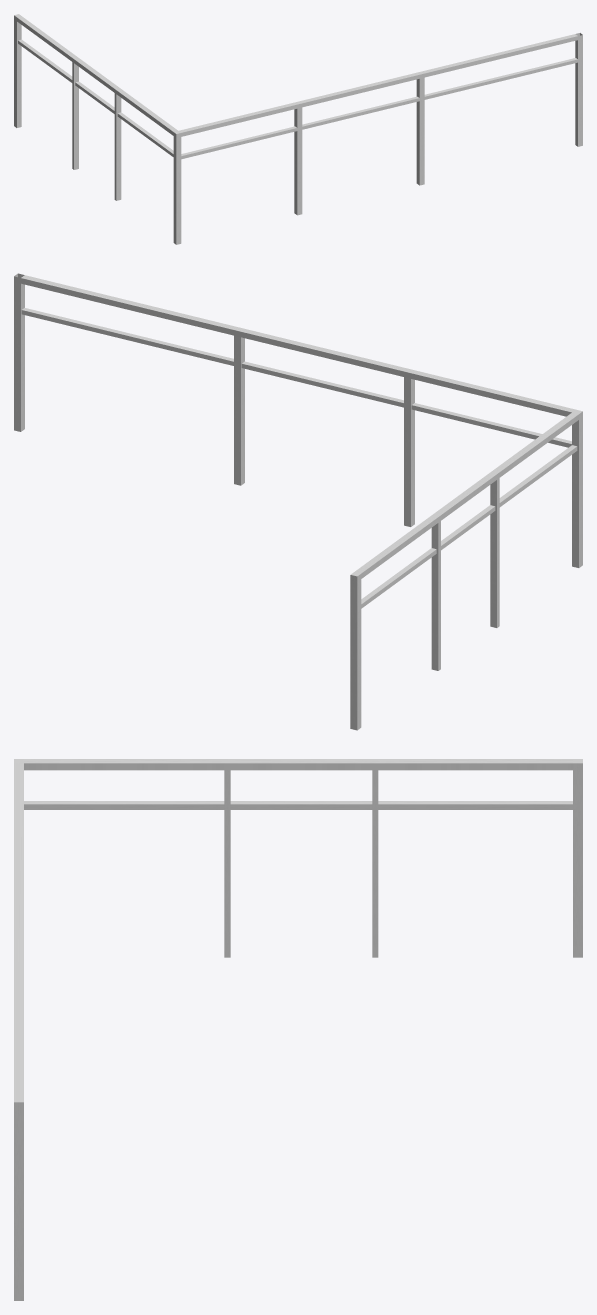
File: frame-wall.glb
3 views of the same model, one above another, from view 1: azimuth 30°, elevation 25°; view 2: azimuth 150°, elevation 25°; view 3: azimuth 270°, elevation 25° (orthographic). The views are drawn at different scales.
Visible parts, largest first — view 1: Cube.003; view 2: Cube.003; view 3: Cube.003.
Part boxes in pixels (x1=…): Cube.003: x1=14, y1=14, x2=582, y2=244; Cube.003: x1=14, y1=273, x2=582, y2=730; Cube.003: x1=14, y1=759, x2=582, y2=1300.
Size of the model in its own units: 18.69 by 4.87 by 12.93.
1 material, 1 textured.
